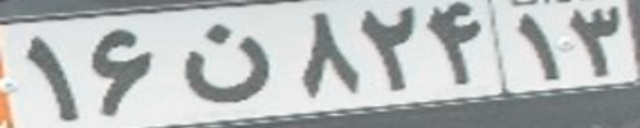1: (27, 37, 78, 122), (517, 12, 557, 78)
2: (361, 5, 415, 91)
3: (571, 5, 620, 77)
4: (428, 1, 481, 83)
6: (90, 27, 151, 116)
8: (302, 12, 356, 98)
non: (183, 23, 270, 103)
